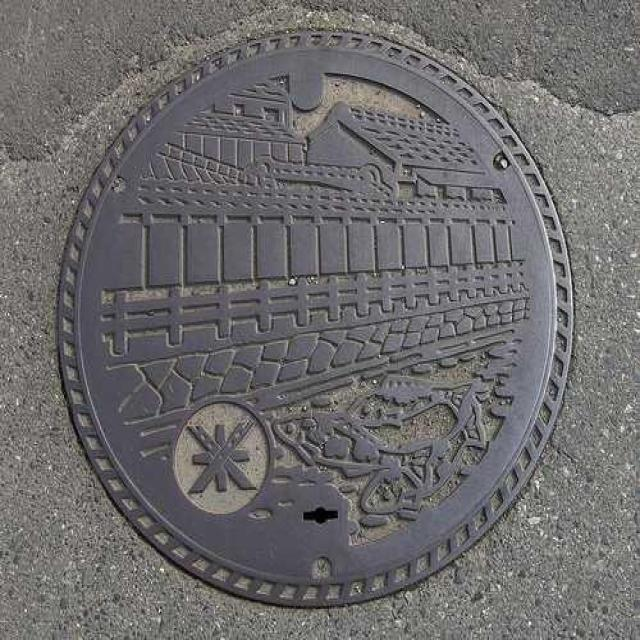manhole: (59, 32, 574, 605)
